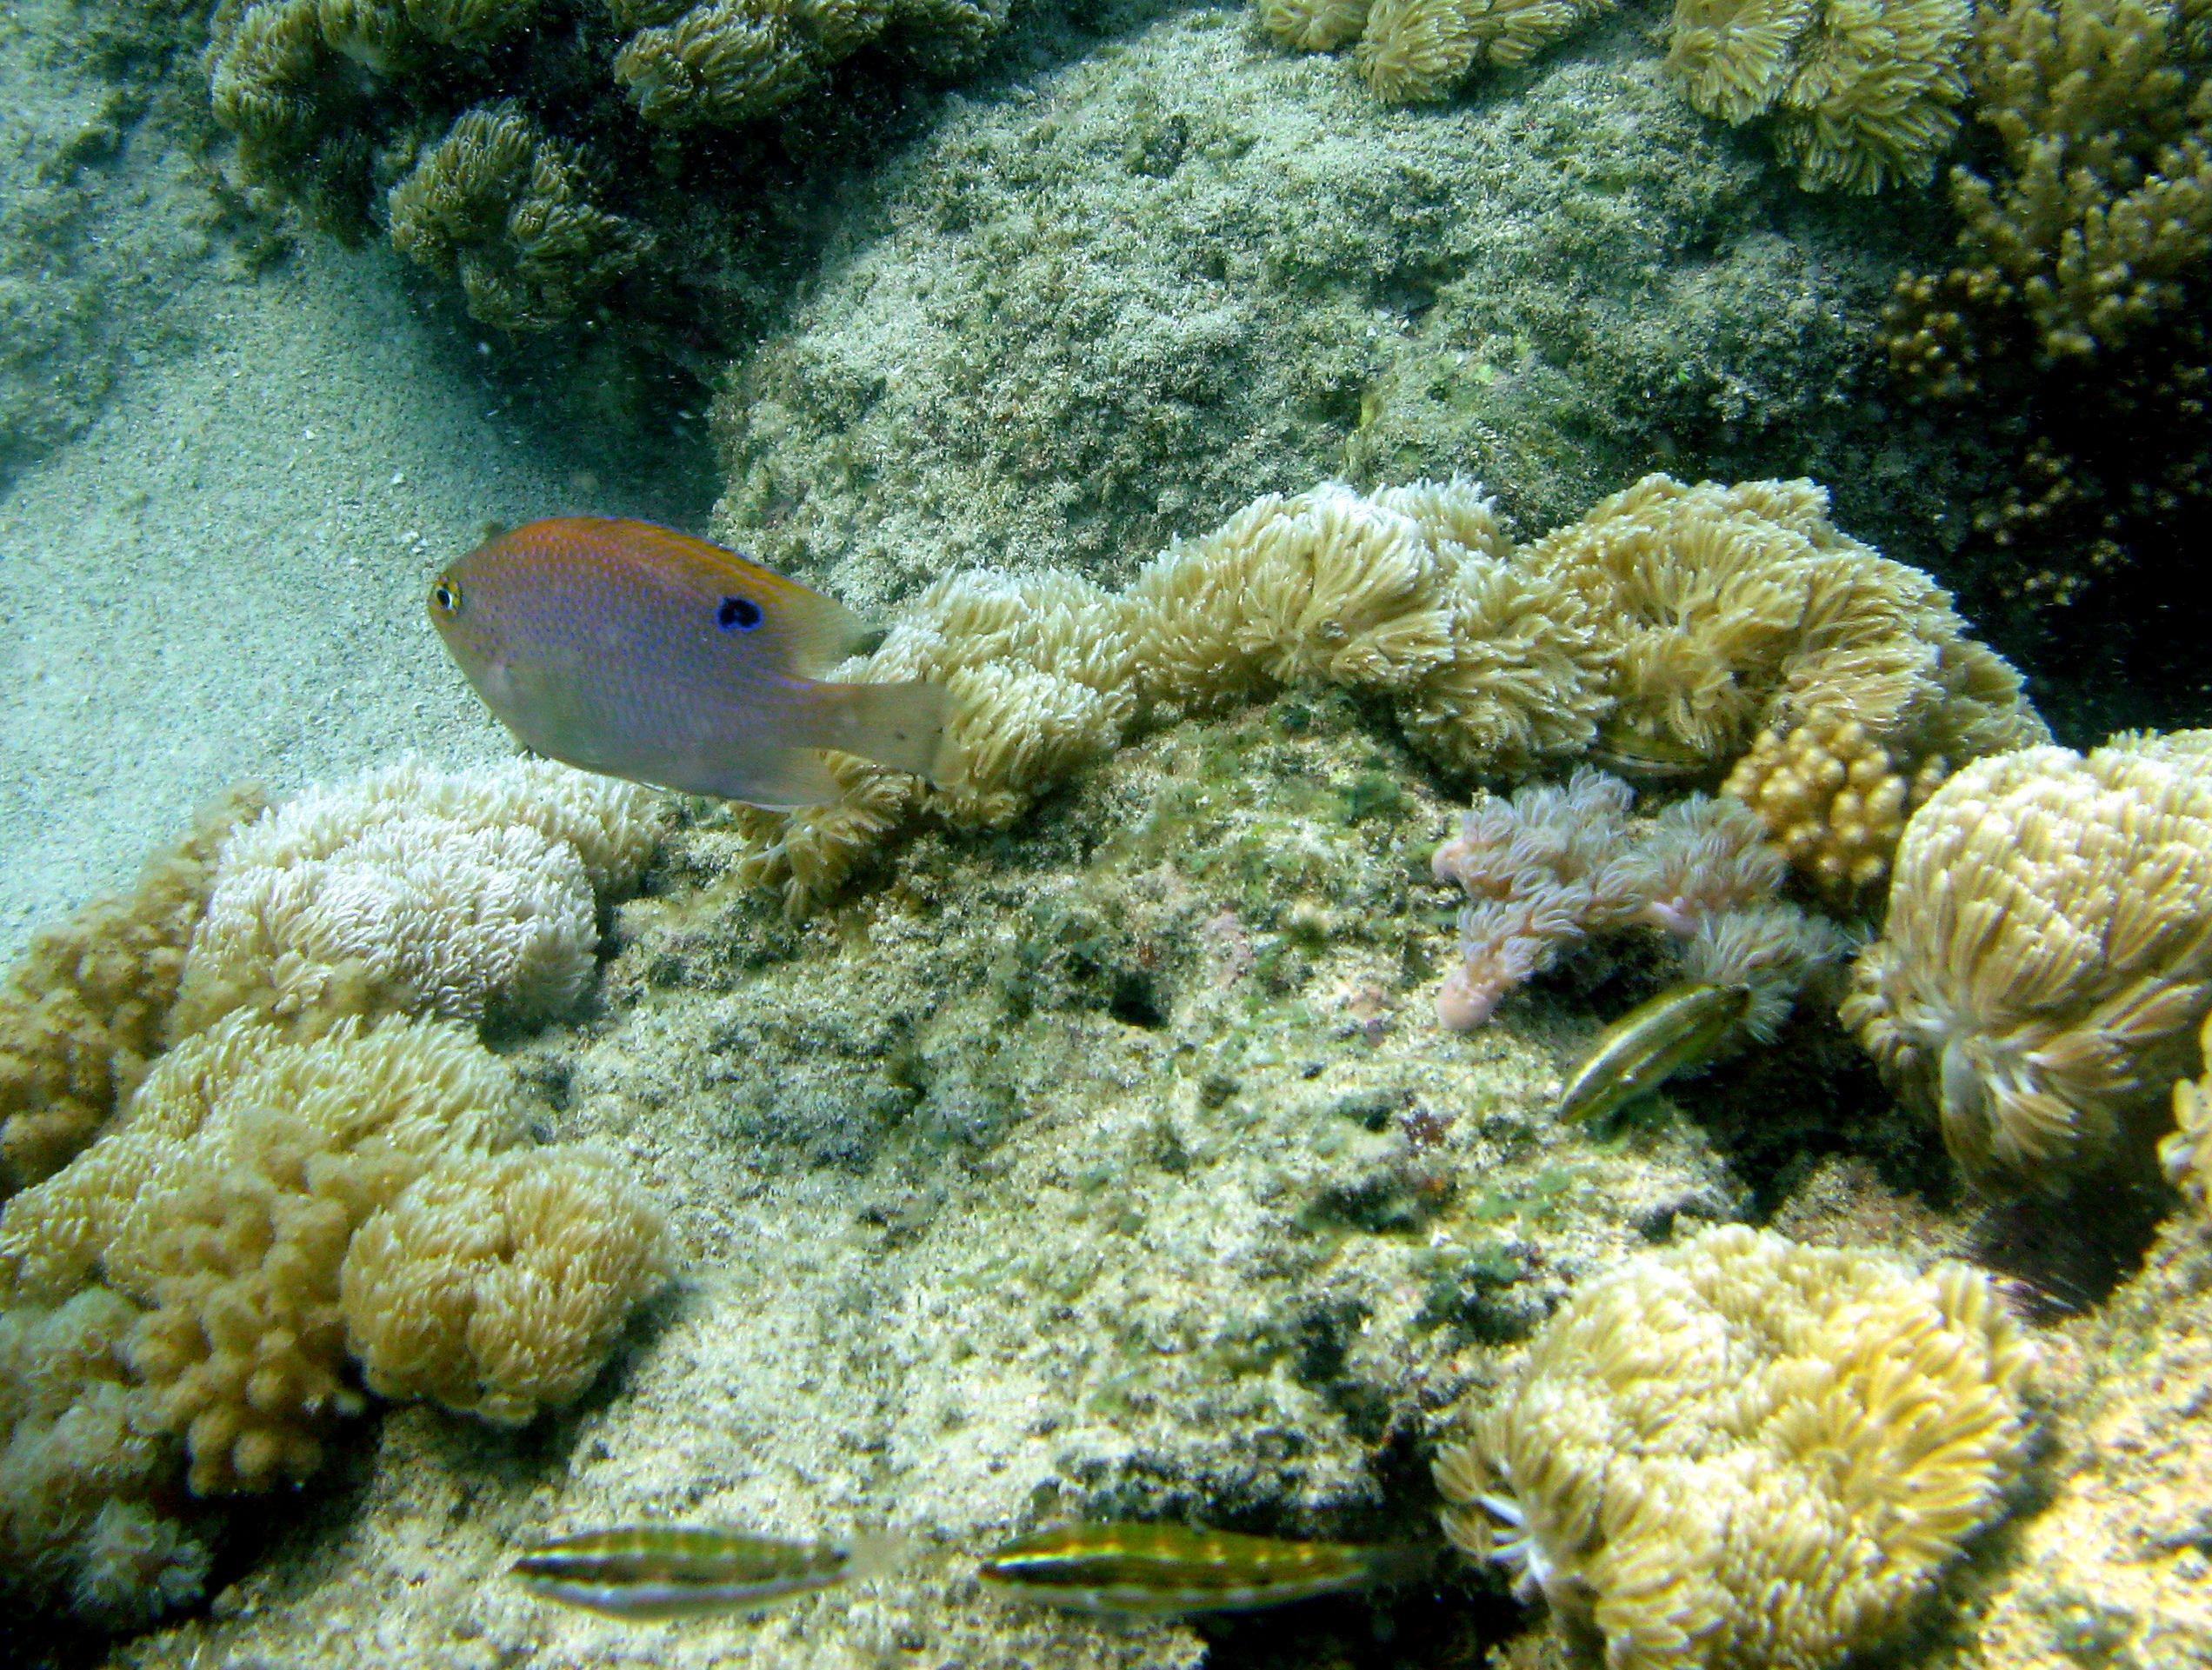Fish: (386, 475, 988, 846)
